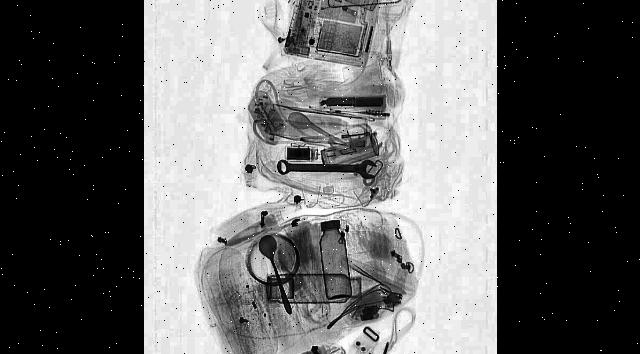Wrench: (276, 156, 376, 177)
